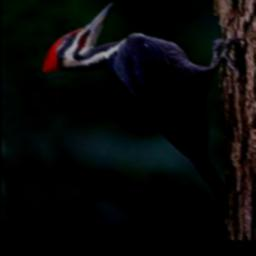Woodpecker: (43, 2, 247, 237)
